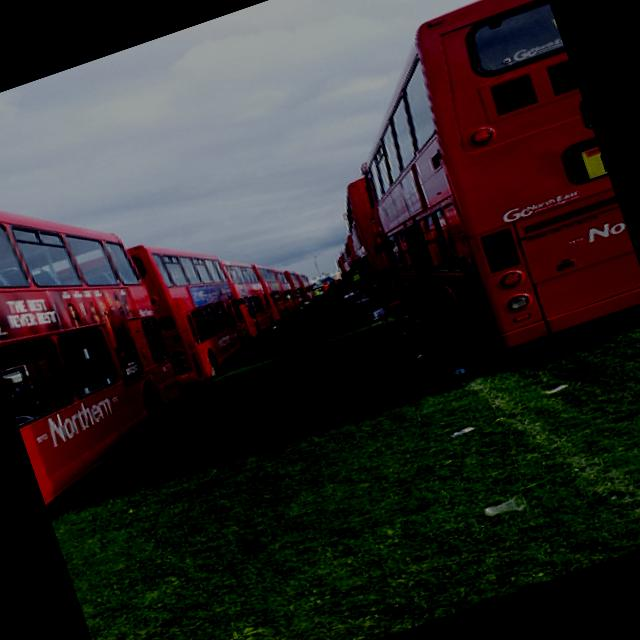Vehicle: (319, 0, 640, 376), (0, 99, 216, 542), (128, 218, 263, 390), (325, 177, 408, 318), (221, 252, 277, 342), (252, 255, 302, 323), (331, 246, 365, 292), (284, 266, 310, 310), (300, 272, 316, 300)
